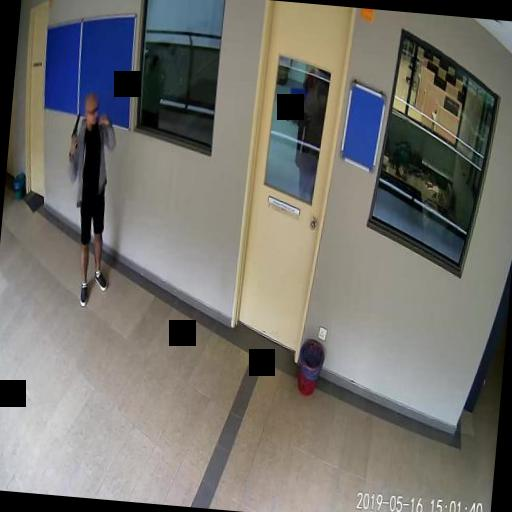Handgun: (69, 112, 79, 144)
